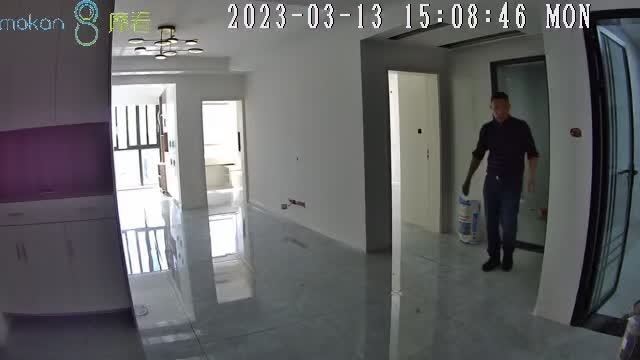people: (462, 92, 537, 272)
window: (113, 104, 161, 190)
